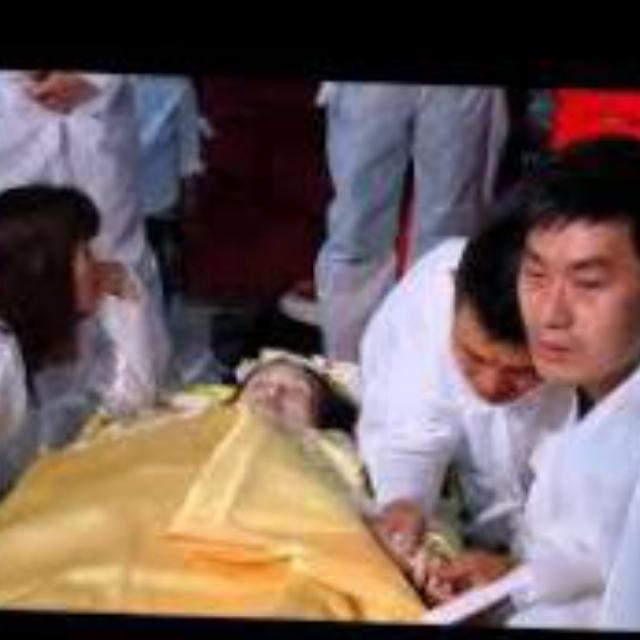Sad: (503, 195, 640, 405), (3, 182, 155, 356), (425, 285, 549, 433)
